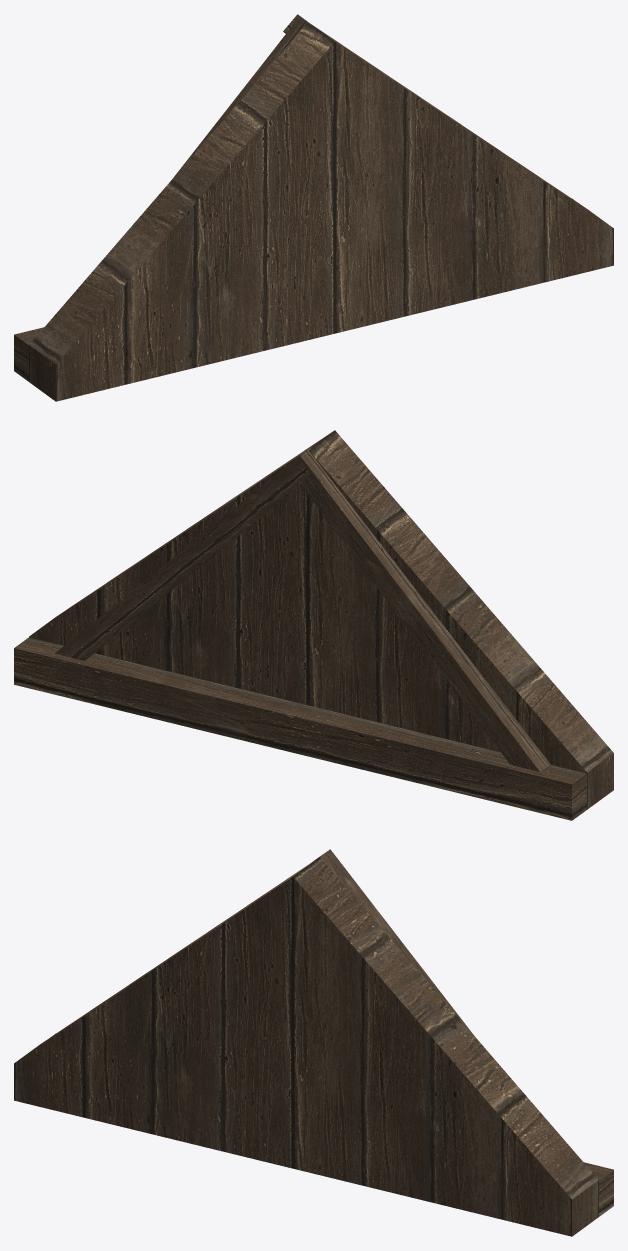
The model's file is ARC1010312.fbx.
3 views of the same model, one above another, from view 1: azimuth 30°, elevation 25°; view 2: azimuth 150°, elevation 25°; view 3: azimuth 330°, elevation 25° (orthographic).
Visible parts, largest first — view 1: smARC1010312; view 2: smARC1010312; view 3: smARC1010312.
Boxes of the visible parts, x1,y1,x2,y2 form: smARC1010312: [14, 14, 613, 401]; smARC1010312: [14, 430, 613, 820]; smARC1010312: [14, 849, 613, 1236].
Size of the model in its own units: 268 by 134 by 34.9.
1 material, 1 textured.
